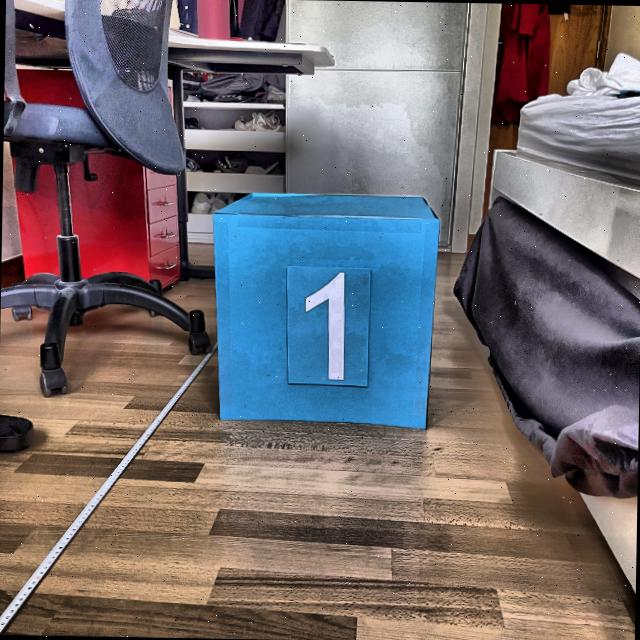blue box: (205, 188, 440, 430)
one: (298, 266, 352, 382)
